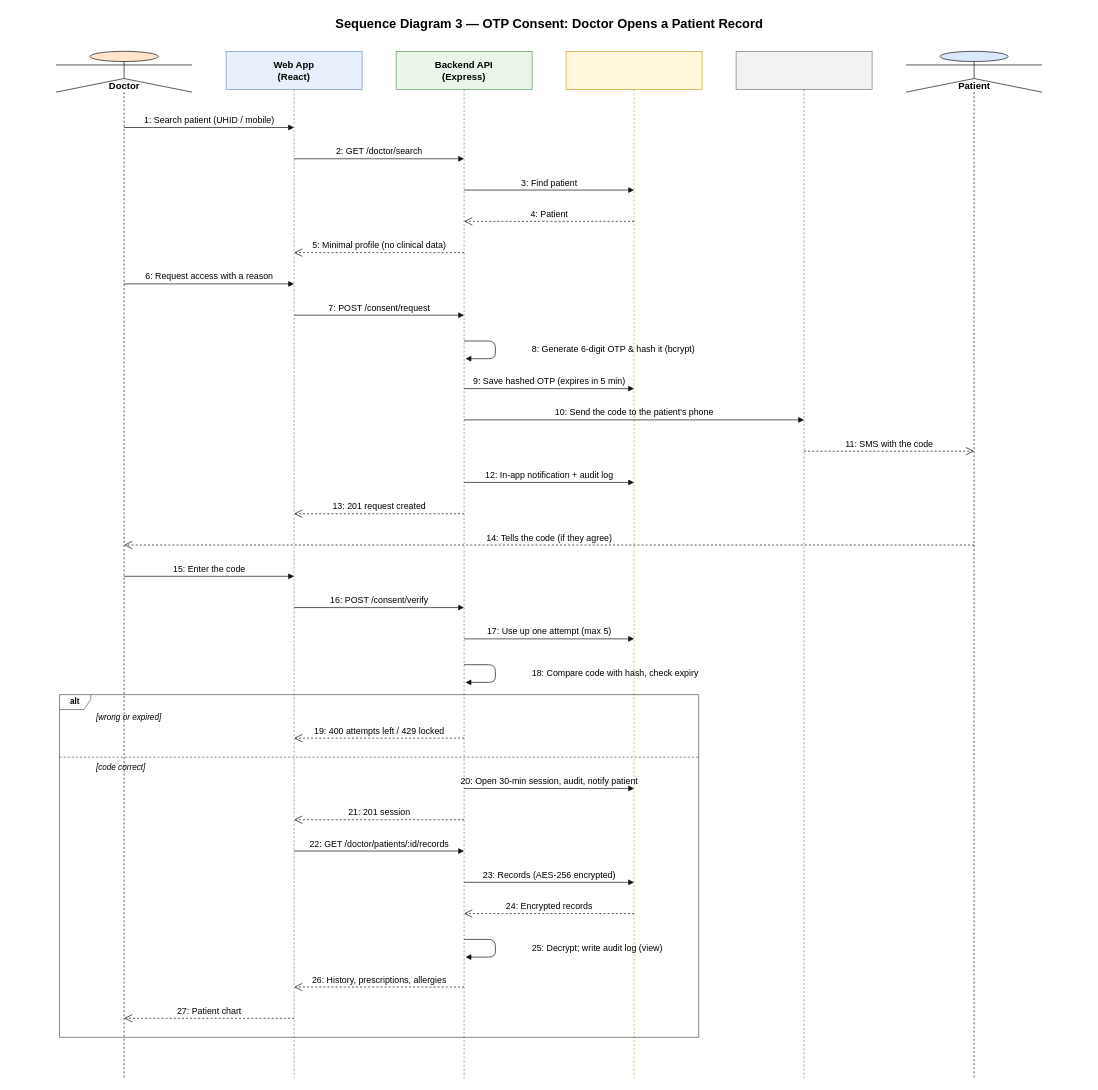
Image size: 1098x1090. Some labels were removed from this diagram. The shapes that lost their labels are listed below. From the top down, each one's box as (x1, y1, x2, y2) in pixels, then its label:
(565, 51, 702, 1078): Database (PostgreSQL)
(735, 51, 872, 1078): SMS Gateway (BulkSMSBD)
